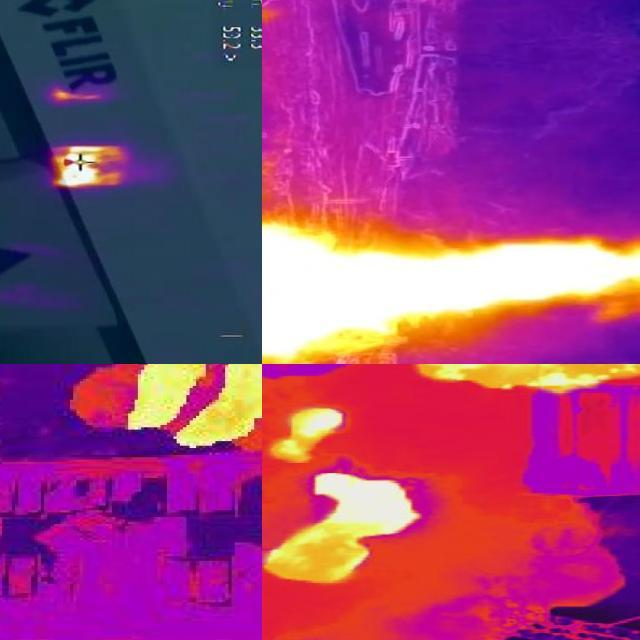fire: (263, 221, 640, 365), (263, 404, 416, 588), (124, 364, 263, 448), (419, 365, 640, 399), (48, 147, 132, 187)
